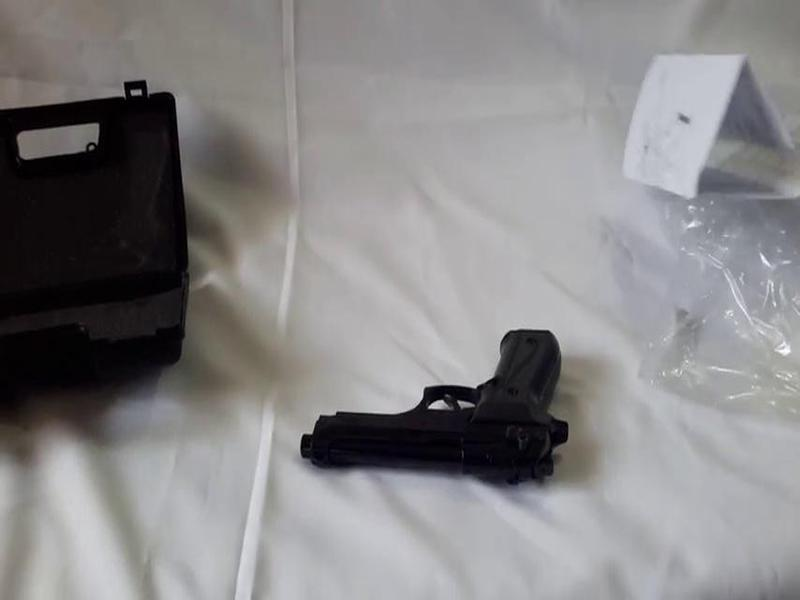Pistola: (294, 309, 619, 538)
